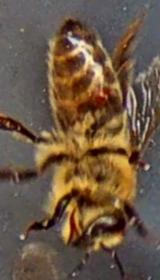varroa_mite: (78, 82, 130, 110)
